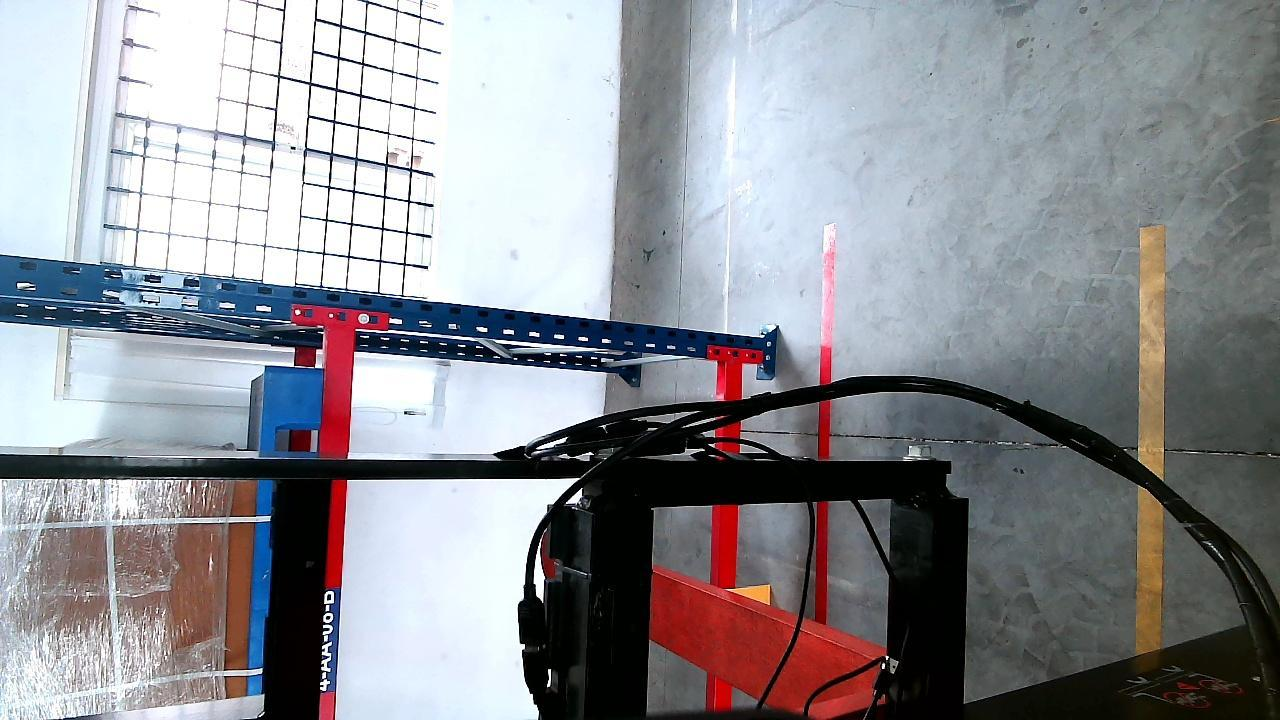red_line: (808, 224, 839, 623)
yellow_line: (1136, 214, 1165, 667)
